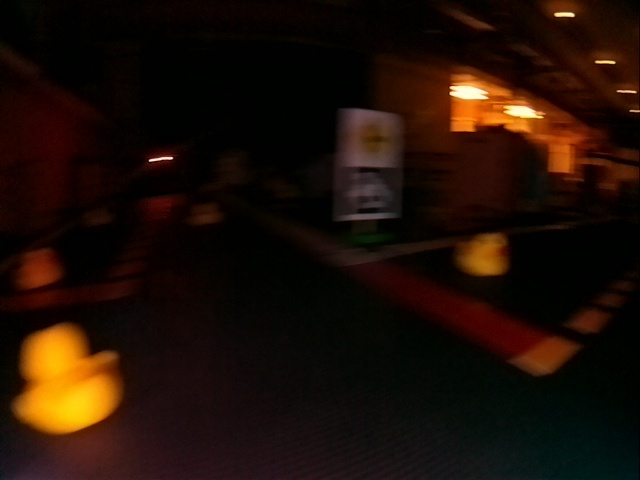Duckie: (16, 325, 123, 434), (456, 232, 509, 274), (15, 249, 57, 288), (191, 202, 219, 226)
Intersection sign: (347, 112, 398, 165)
QR code: (341, 166, 401, 219)
